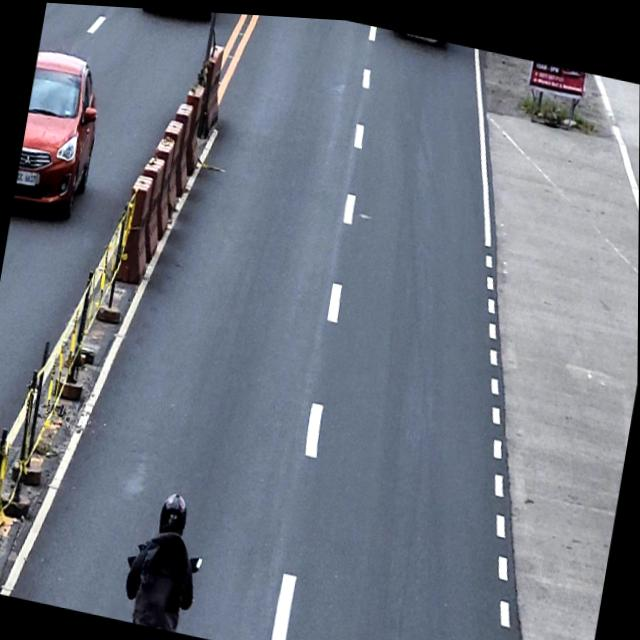Car: (13, 44, 108, 222)
License-Plate: (16, 166, 42, 188)
